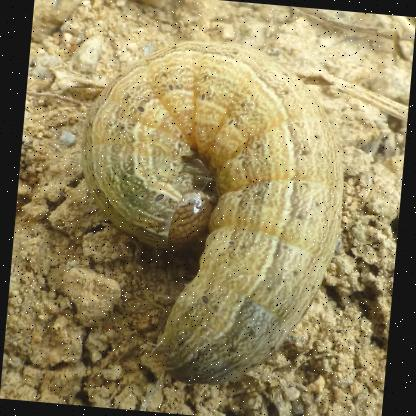Fall Armyworm Larvae: (56, 24, 362, 402)
